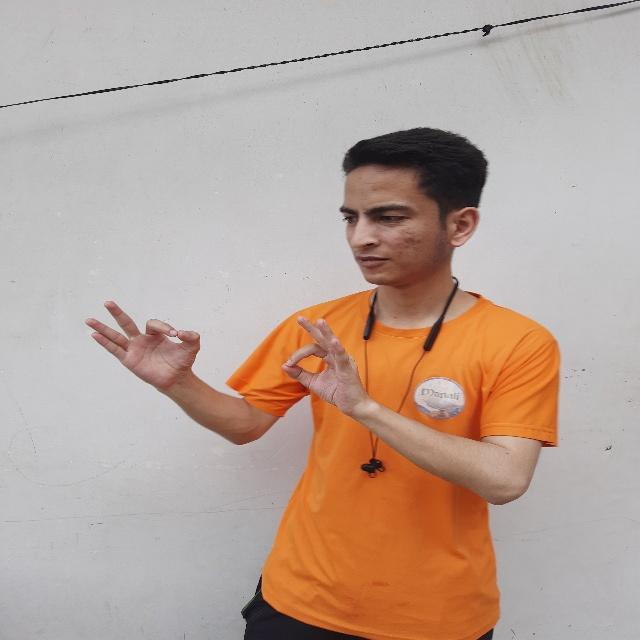Okay: (78, 287, 212, 408), (275, 312, 376, 424)
